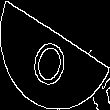O_NE: (32, 22, 78, 88)
